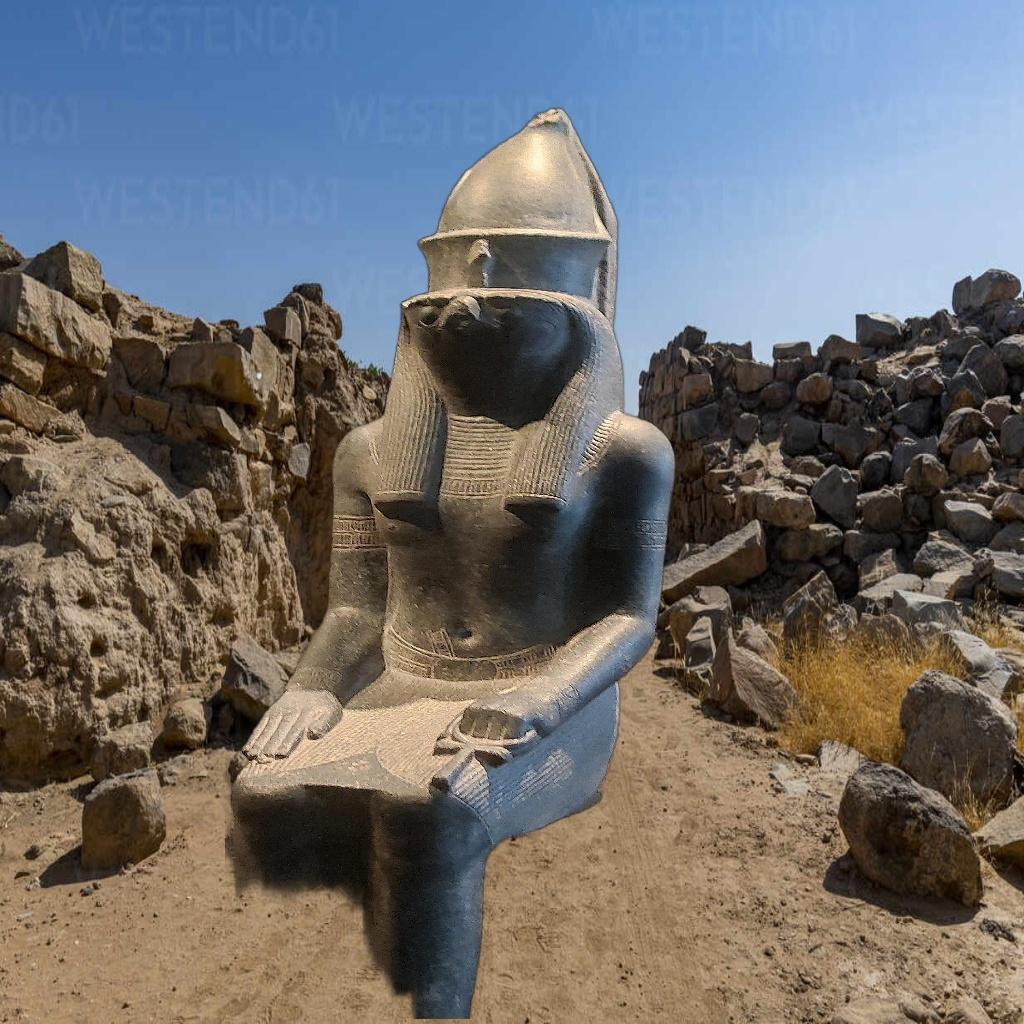Statue of God Ra-Horakhty: (225, 104, 683, 1019)
